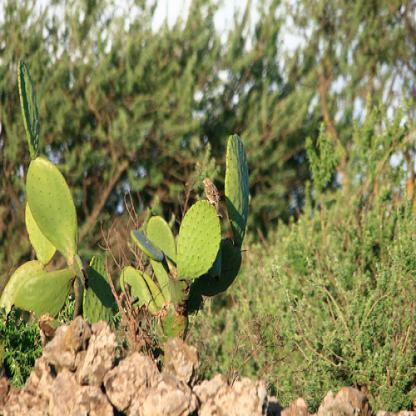bird: (200, 175, 223, 217)
